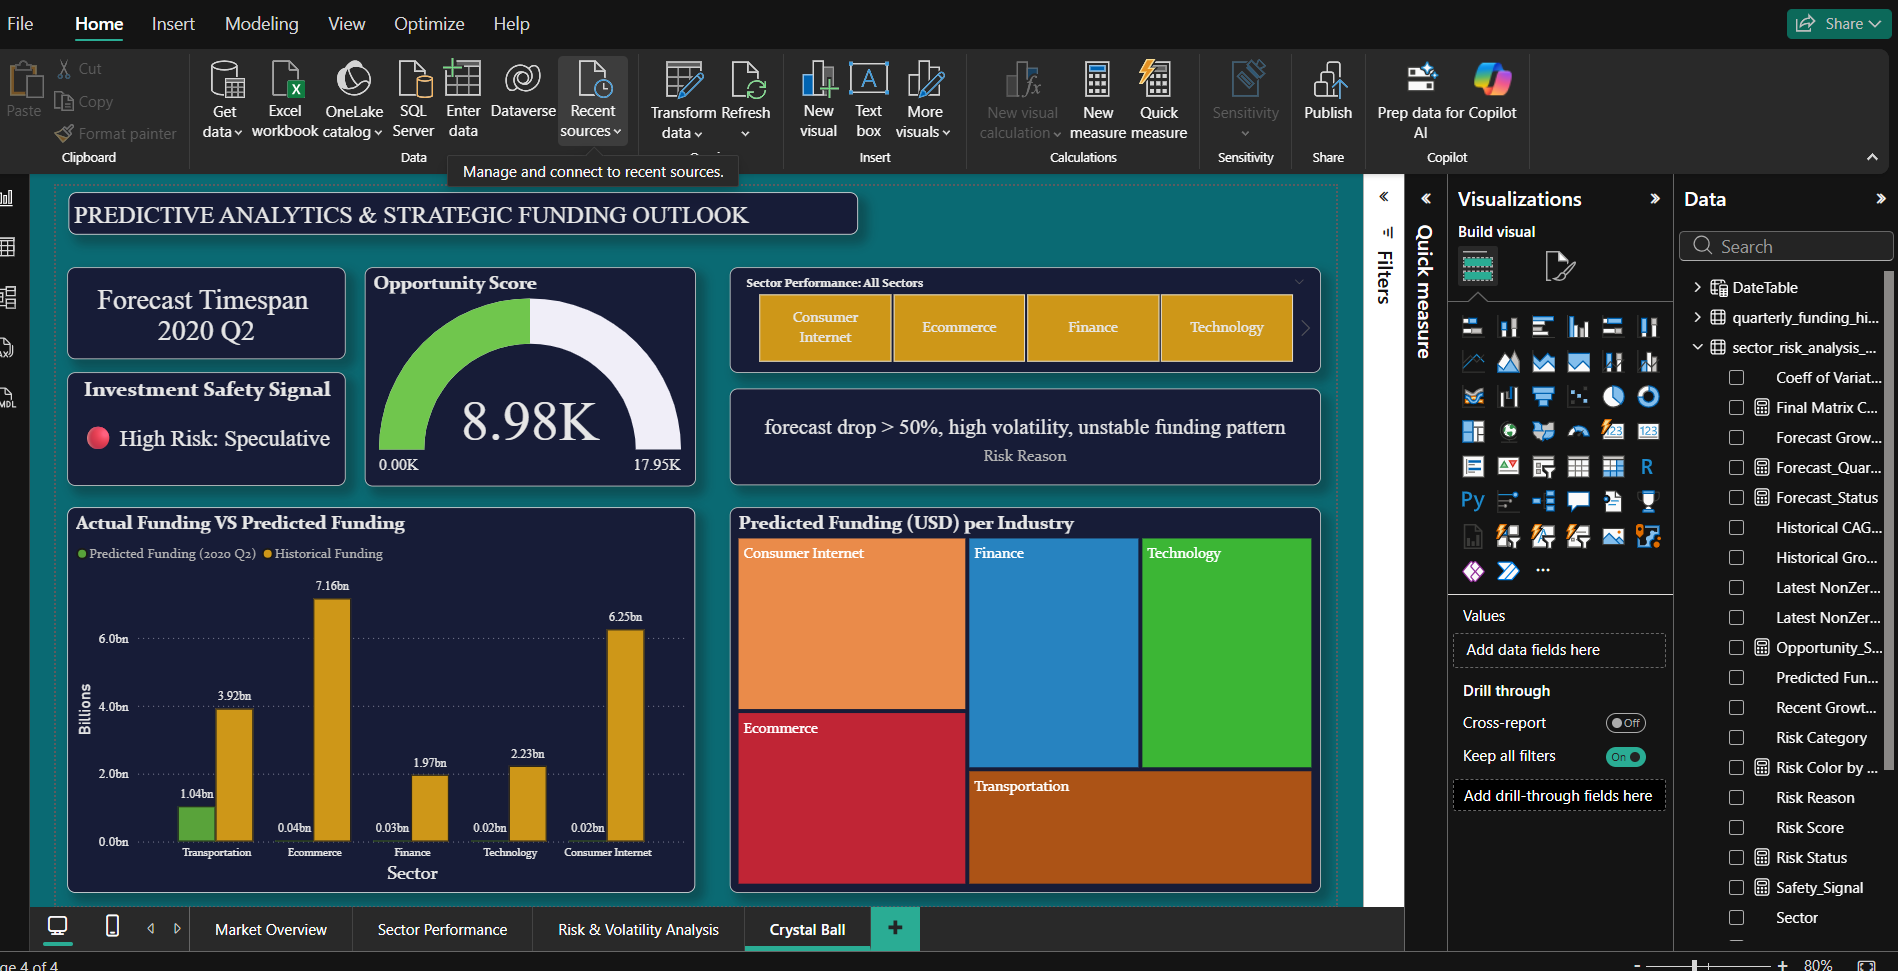

Layout of this report page (visuals, bound fields, positions):
{"tool":"powerbi","page":{"name":"Forecasting","canvas":[1280,720],"ordinal":3},"visuals":[{"type":"textbox","title":"PREDICTIVE ANALYTICS & STRATEGIC FUNDING OUTLOOK","box":[12.1,6,790,42.2],"z":0},{"type":"lineClusteredColumnComboChart","title":"Actual Funding VS Predicted Funding","fields":{"Category":["sector_risk_analysis_with_simple_forecast.Sector"],"Y":["Sum(startup_sector_forecast.Predicted Funding USD)","Sum(Sheet1.Amount usd)"]},"box":[11.2,320.9,628.2,385.6],"z":1000},{"type":"gauge","title":"Opportunity Score","fields":{"Y":["sector_risk_analysis_with_simple_forecast.Opportunity_Score"]},"box":[308.5,80.9,330.9,218.9],"z":2000},{"type":"slicer","fields":{"Values":["sector_risk_analysis_with_simple_forecast.Sector"]},"box":[674.2,80.9,590.9,105.7],"z":3000},{"type":"treemap","title":"Predicted Funding (USD) per Industry","fields":{"Group":["sector_risk_analysis_with_simple_forecast.Sector"],"Values":["CountNonNull(startup_sector_forecast.Predicted Funding USD)"]},"box":[674.2,320.9,590.9,385.6],"z":4000},{"type":"card","fields":{"Values":["sector_risk_analysis_with_simple_forecast.Forecast_Quarter_Label"]},"box":[11.2,80.9,278.6,92.1],"z":5000},{"type":"card","title":"Investment Safety Signal","fields":{"Values":["sector_risk_analysis_with_simple_forecast.Safety_Signal"]},"box":[11.2,186.6,278.6,113.2],"z":6000},{"type":"card","fields":{"Values":["Min(sector_risk_analysis_with_simple_forecast.Risk Reason)"]},"box":[674.2,202.8,590.9,97],"z":7000}]}

Visuals, with their boxes on the page's 1280x720 design canvas (x1, y1, x2, y2). These are canvas units, not pixel positions in the 1898x971 screenshot, which may show the page scaled, cropped or inside an application window:
"PREDICTIVE ANALYTICS & STRATEGIC FUNDING OUTLOOK" textbox: {"left": 12, "top": 6, "right": 802, "bottom": 48}
"Actual Funding VS Predicted Funding" lineClusteredColumnComboChart: {"left": 11, "top": 321, "right": 639, "bottom": 706}
"Opportunity Score" gauge: {"left": 308, "top": 81, "right": 639, "bottom": 300}
slicer - sector_risk_analysis_with_simple_forecast.Sector: {"left": 674, "top": 81, "right": 1265, "bottom": 187}
"Predicted Funding (USD) per Industry" treemap: {"left": 674, "top": 321, "right": 1265, "bottom": 706}
card - sector_risk_analysis_with_simple_forecast.Forecast_Quarter_Label: {"left": 11, "top": 81, "right": 290, "bottom": 173}
"Investment Safety Signal" card: {"left": 11, "top": 187, "right": 290, "bottom": 300}
card - Min(sector_risk_analysis_with_simple_forecast.Risk Reason): {"left": 674, "top": 203, "right": 1265, "bottom": 300}
